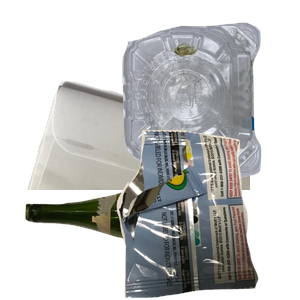glass: (23, 186, 249, 300)
paper: (25, 79, 265, 259)
plastic: (119, 20, 300, 190)
trash: (114, 130, 300, 300)
